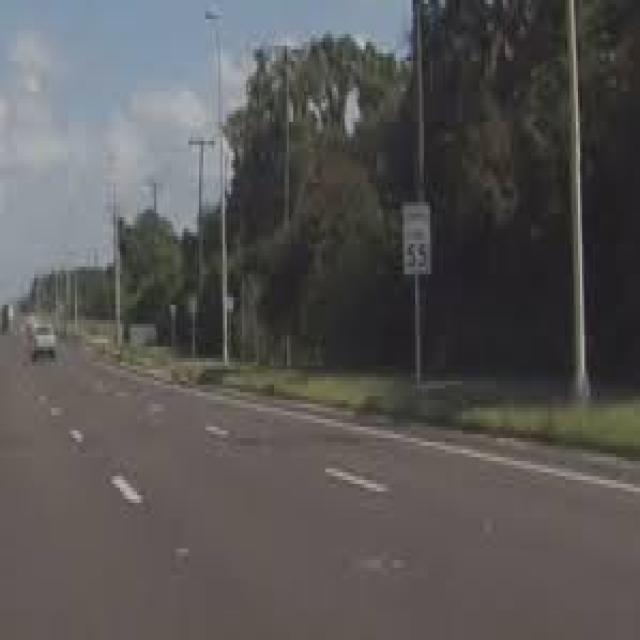speedLimit55: (402, 191, 429, 278)
